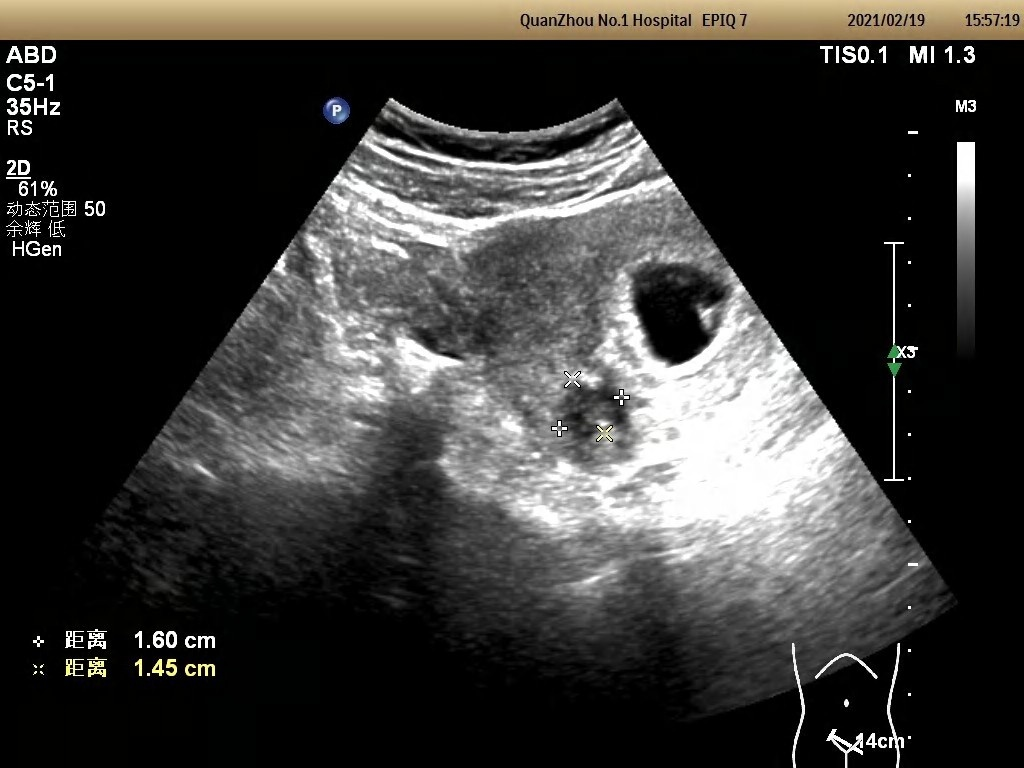肌瘤: (560, 384, 613, 442)
